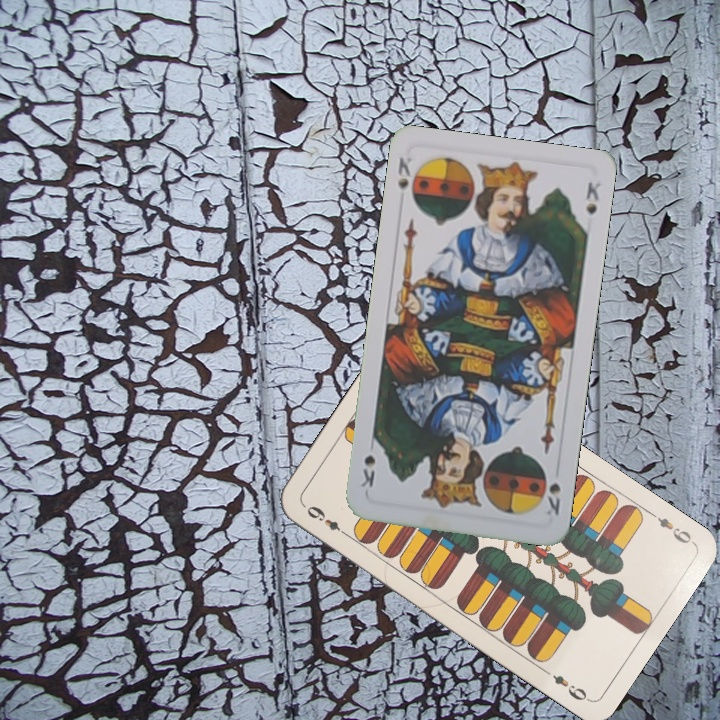E9: (644, 507, 696, 547), (302, 501, 352, 540)
SK: (393, 153, 421, 206), (542, 478, 563, 518)
